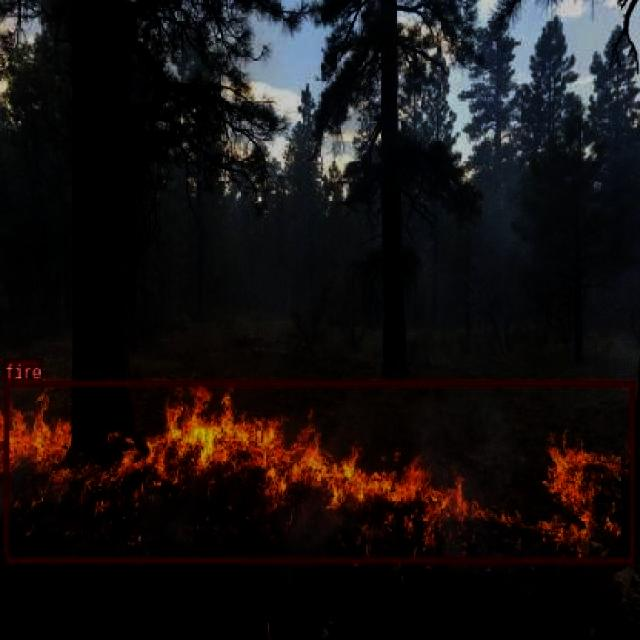fire: (3, 380, 634, 562)
